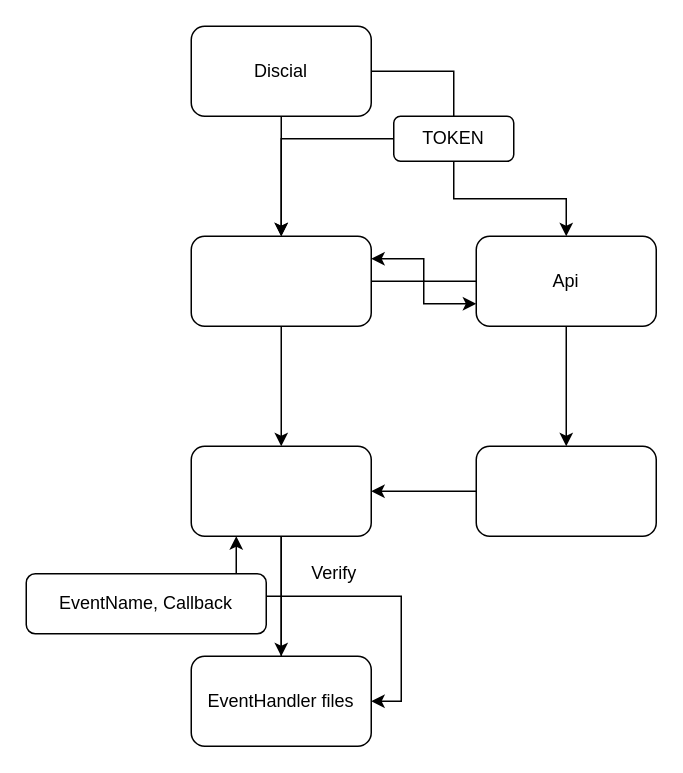
This 683x773 diagram has some shape labels left out. Here are the shapes that lost their labels. From the top down, the centre of each, then its label:
[280,280]: Gateway
[280,490]: Event
[565,490]: Data
